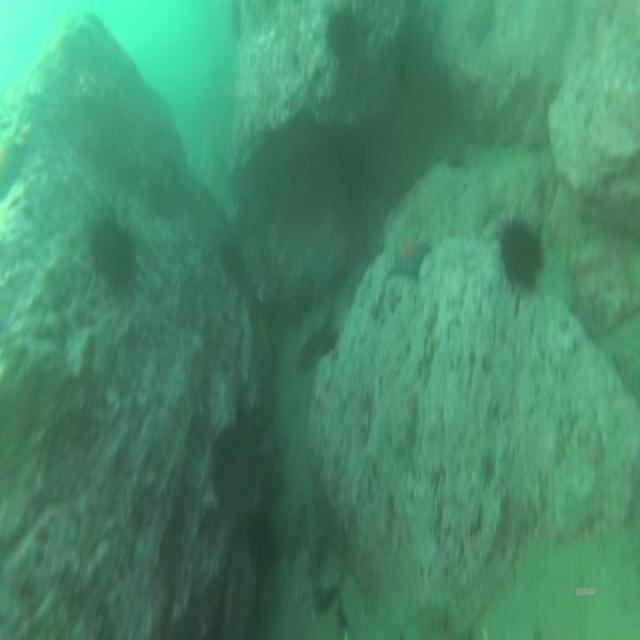echinus: (503, 220, 540, 290), (94, 223, 132, 291), (243, 508, 276, 574), (328, 16, 355, 57), (220, 242, 244, 276)
starfish: (277, 509, 307, 567), (391, 240, 429, 278)
